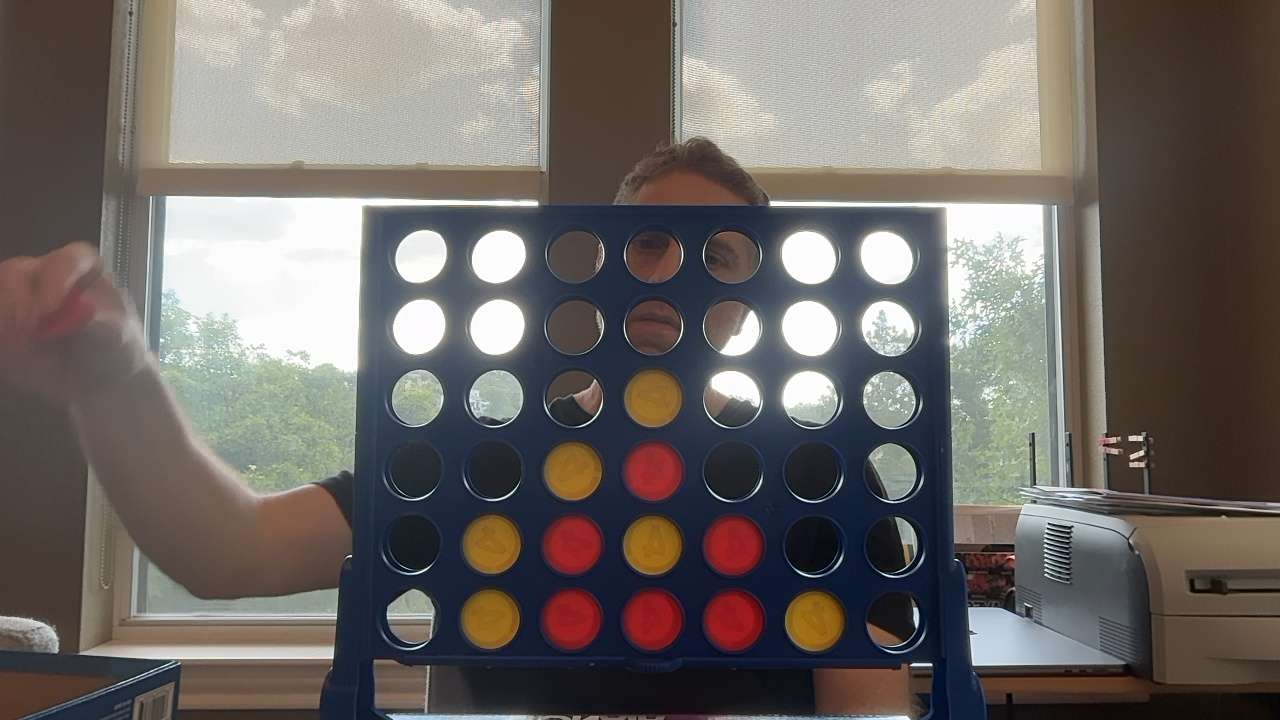red piece: (703, 589, 764, 652), (541, 588, 601, 651), (703, 515, 764, 576), (622, 589, 682, 651), (542, 514, 602, 575), (623, 441, 683, 501)
yellow piece: (785, 590, 845, 652), (460, 588, 519, 649), (623, 515, 682, 575), (462, 514, 521, 574), (544, 441, 602, 500), (624, 368, 682, 427)
